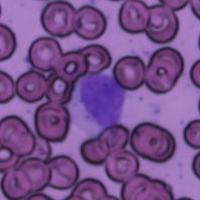L: (76, 71, 128, 129)
